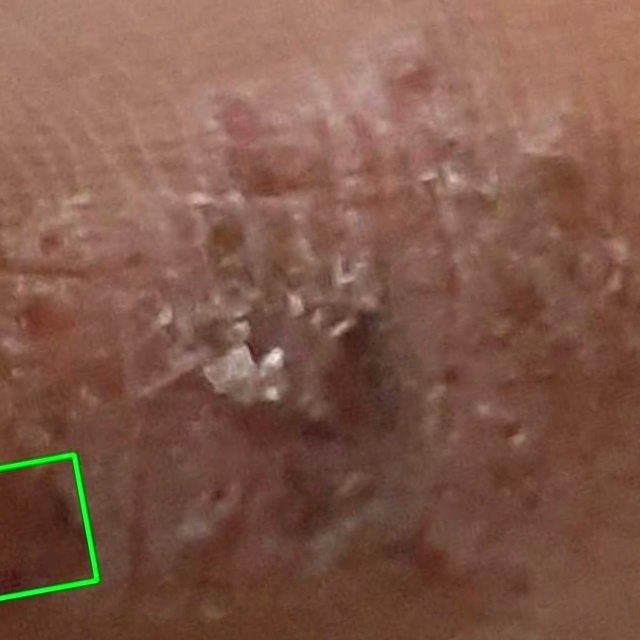Contact Dermatitis: (0, 454, 97, 598)
